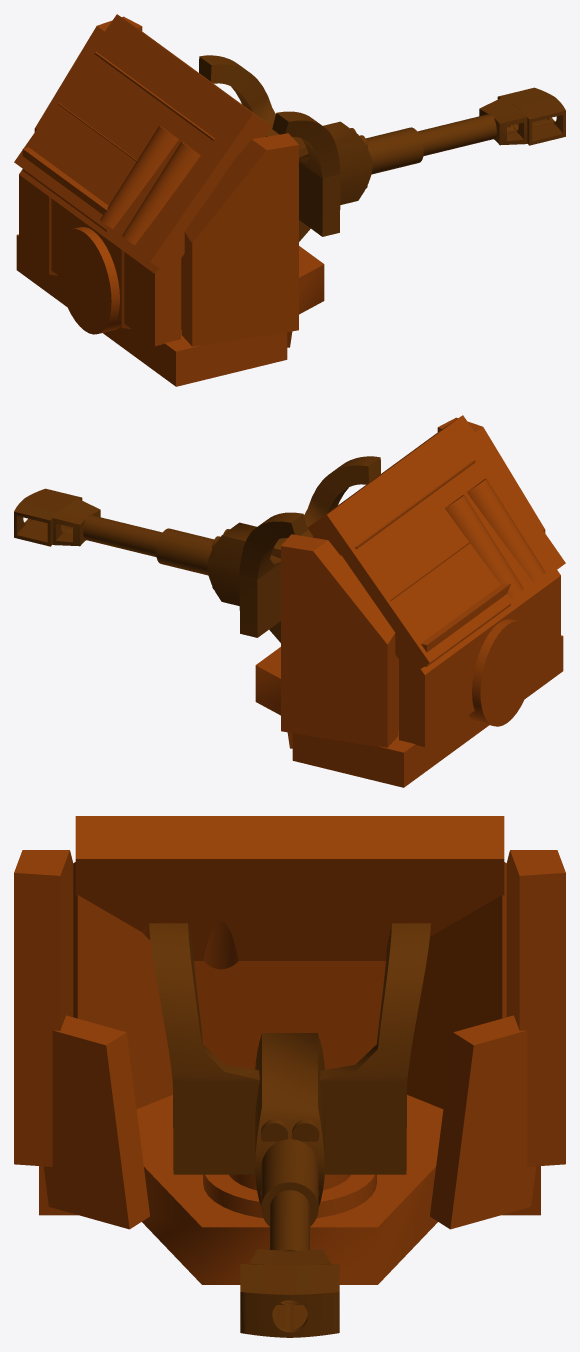
The model's file is Cannon Side Export 1.fbx.
3 renders of one model, top to bottom at view 1: azimuth 30°, elevation 25°; view 2: azimuth 150°, elevation 25°; view 3: azimuth 270°, elevation 25°, orthographic. The views are drawn at different scales.
Visible parts, largest first — view 1: edges_1, rest_1, frontbit; view 2: edges_1, rest_1, frontbit; view 3: edges_1, rest_1, frontbit.
Part boxes in pixels (x1=…): edges_1: x1=14, y1=14, x2=324, y2=386; rest_1: x1=199, y1=55, x2=423, y2=241; frontbit: x1=417, y1=87, x2=565, y2=156; edges_1: x1=255, y1=415, x2=565, y2=787; rest_1: x1=156, y1=456, x2=380, y2=642; frontbit: x1=14, y1=488, x2=162, y2=557; edges_1: x1=14, y1=816, x2=565, y2=1284; rest_1: x1=149, y1=923, x2=430, y2=1226; frontbit: x1=240, y1=1190, x2=339, y2=1337.
Bounding box in the file's own units: 57.82 × 28.23 × 36.84.
